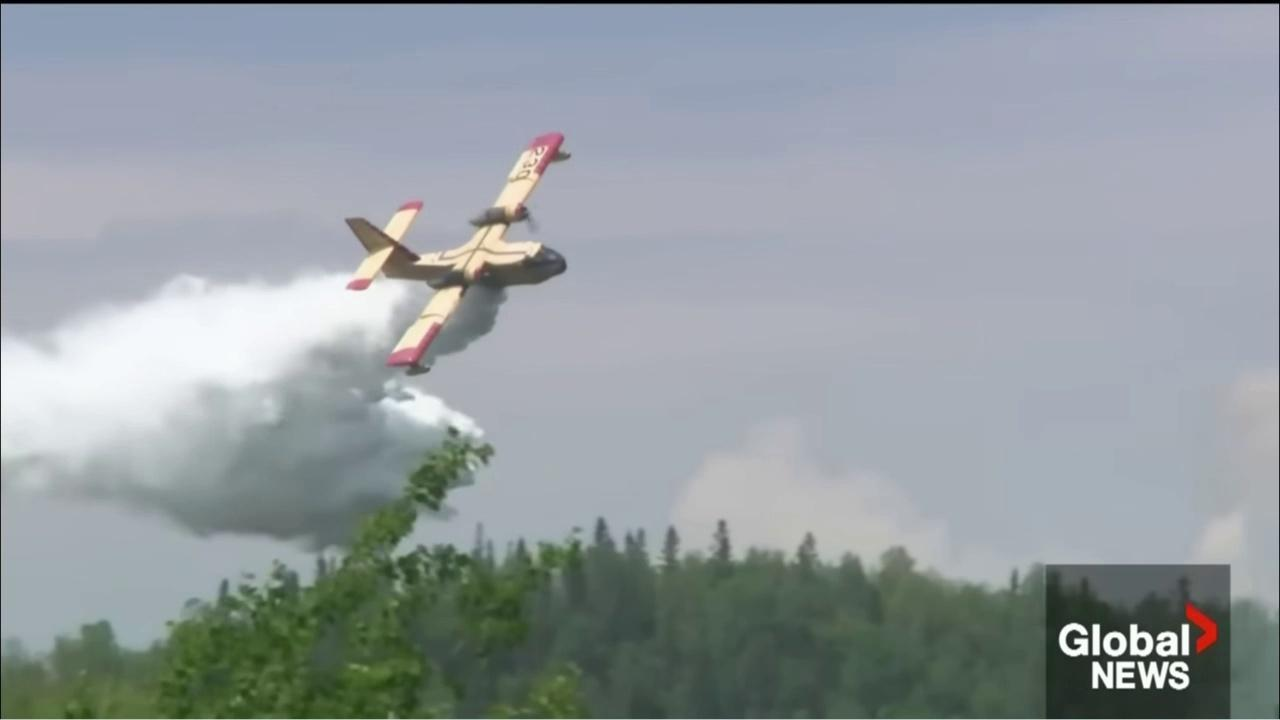smoke: (666, 417, 957, 577), (1193, 514, 1254, 605)
